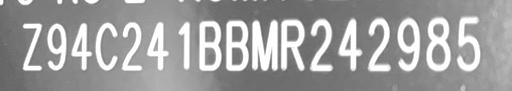letter: (454, 15, 484, 74), (424, 13, 452, 76), (336, 13, 364, 76), (365, 14, 393, 75), (279, 15, 307, 74), (250, 18, 280, 73), (307, 17, 335, 74), (394, 15, 420, 74), (92, 20, 120, 73), (224, 17, 250, 74), (146, 17, 172, 72), (120, 19, 146, 74), (196, 19, 222, 72), (18, 21, 44, 74), (68, 20, 94, 71), (44, 22, 68, 71), (174, 17, 194, 74)
